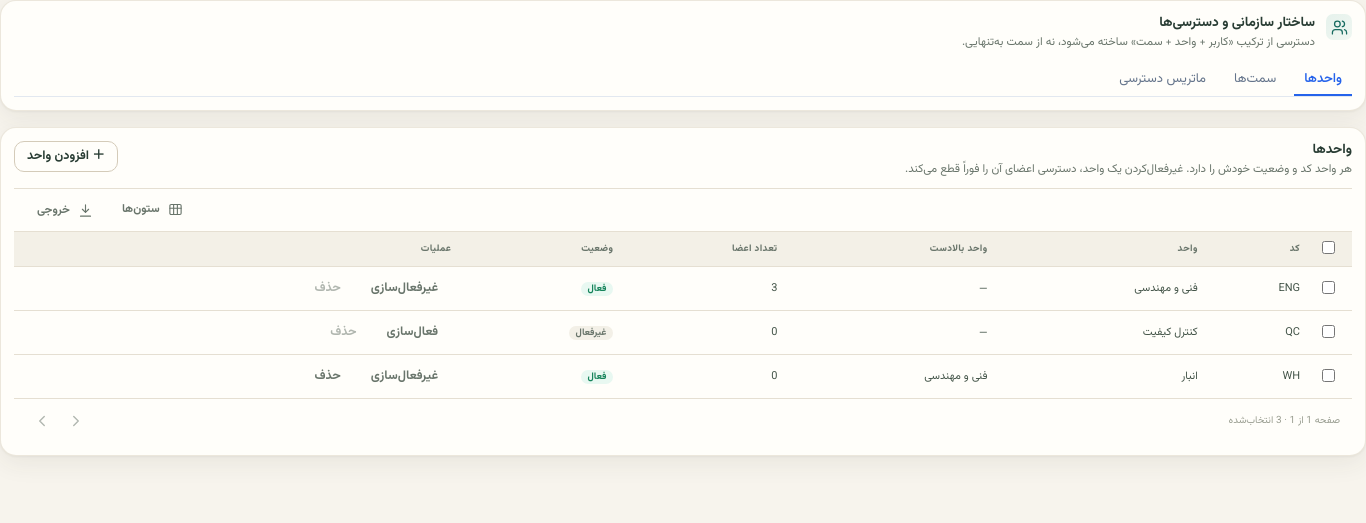
Test case: organisation structure page — positions and postings › lists positions with their level
Expected: the text "ENG" is shown, [1207,267,1309,311]
Click the tab "سمت‌ها": {"x": 1255, "y": 80} [1224,64,1286,96]
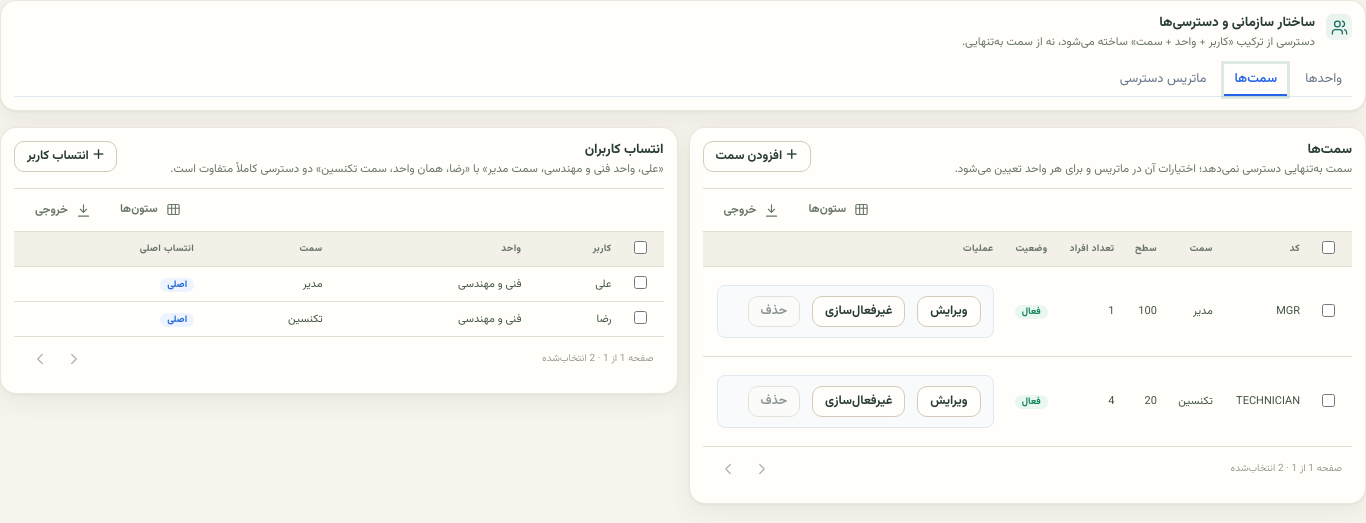
Result: the text "مدیر" next to "MGR" is shown at [1193,303,1213,320]
Result: the text "TECHNICIAN" is shown at [1222,357,1309,446]
